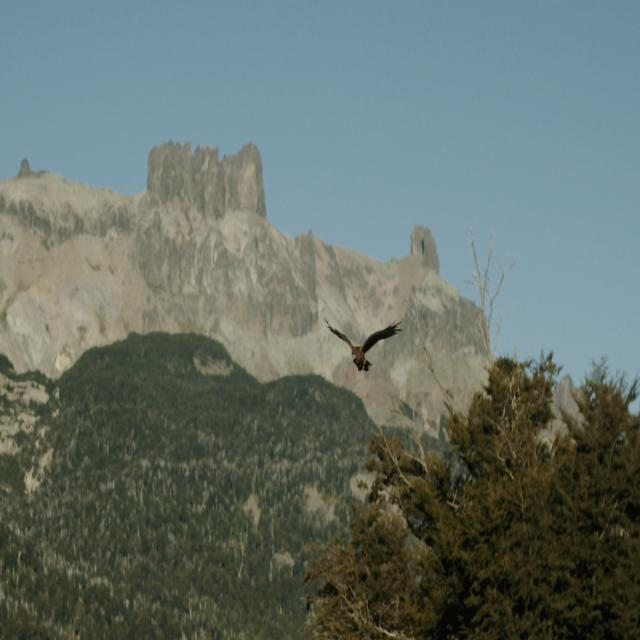bird: (320, 314, 402, 387)
